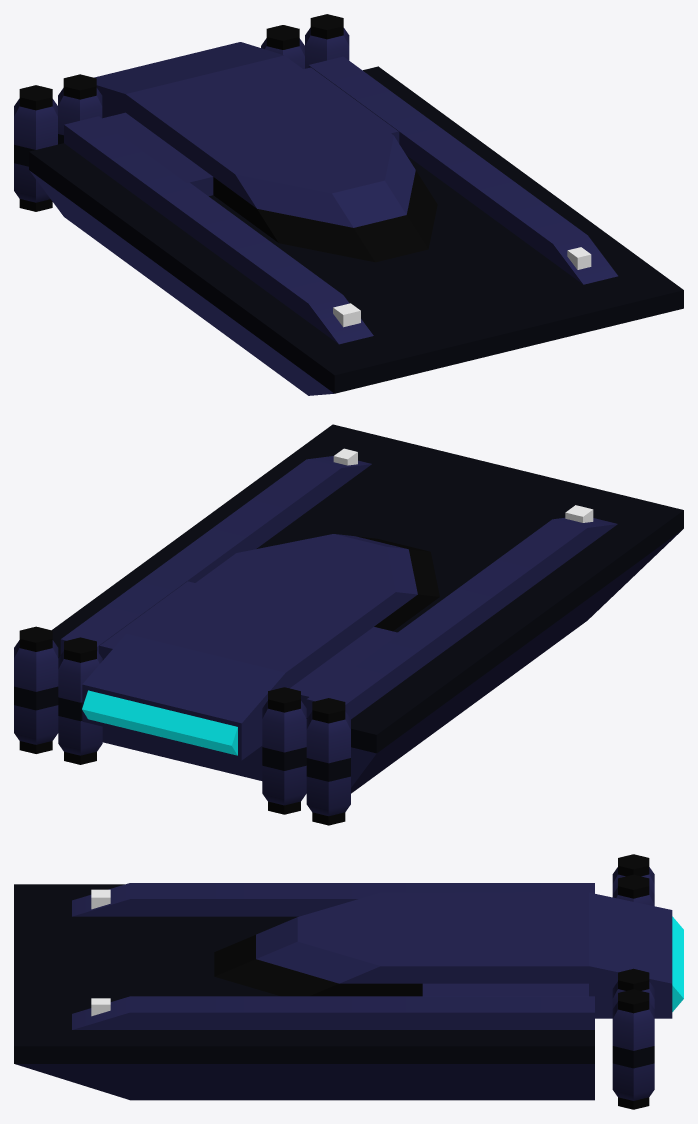
The model's file is car7.obj.
3 renders of one model, top to bottom at view 1: azimuth 30°, elevation 25°; view 2: azimuth 150°, elevation 25°; view 3: azimuth 270°, elevation 25°, orthographic. The views are drawn at different scales.
Visible parts, largest first — view 1: mergedBlocks; view 2: mergedBlocks; view 3: mergedBlocks.
Boxes of the visible parts, x1,y1,x2,y2 form: mergedBlocks: (14, 14, 683, 395); mergedBlocks: (14, 424, 683, 825); mergedBlocks: (14, 854, 683, 1109).
Size of the model in its own units: 1.98 by 0.6 by 3.46.
